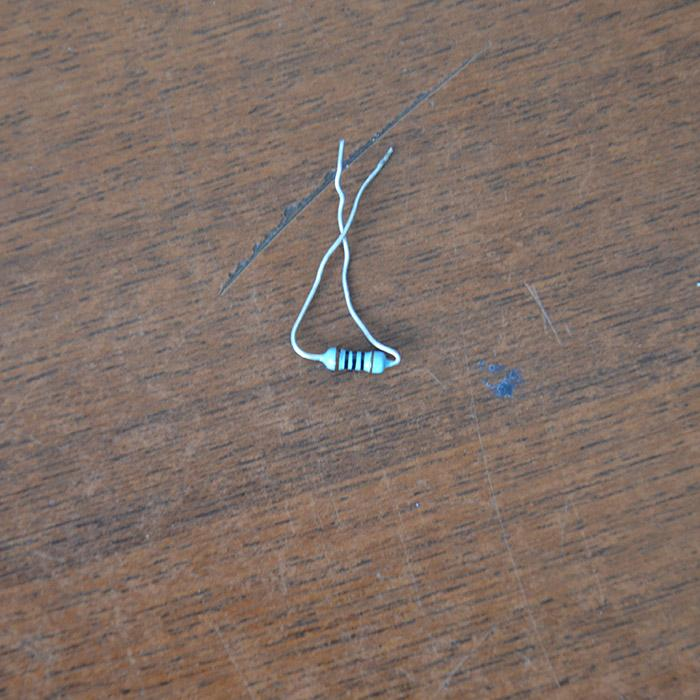resistor: (322, 345, 389, 378)
